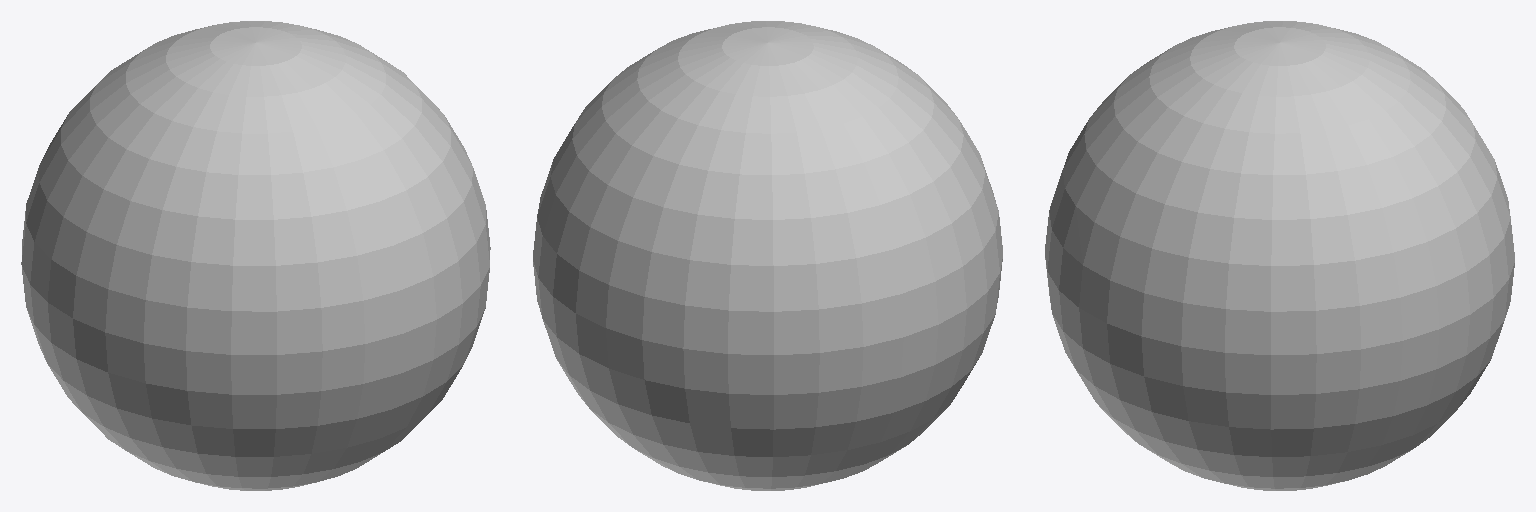
File: mesh_bodyjoint_r4.obj
3 views of the same model, side by side, from view 1: azimuth 30°, elevation 25°; view 2: azimuth 150°, elevation 25°; view 3: azimuth 270°, elevation 25° (orthographic).
Visible parts, largest first — view 1: Sphere.008_Sphere.011; view 2: Sphere.008_Sphere.011; view 3: Sphere.008_Sphere.011.
Boxes of the visible parts, x1=… form: Sphere.008_Sphere.011: x1=21, y1=21, x2=490, y2=490; Sphere.008_Sphere.011: x1=533, y1=21, x2=1002, y2=490; Sphere.008_Sphere.011: x1=1045, y1=21, x2=1514, y2=490.
Size of the model in its own units: 0.2998 by 0.3 by 0.2998.